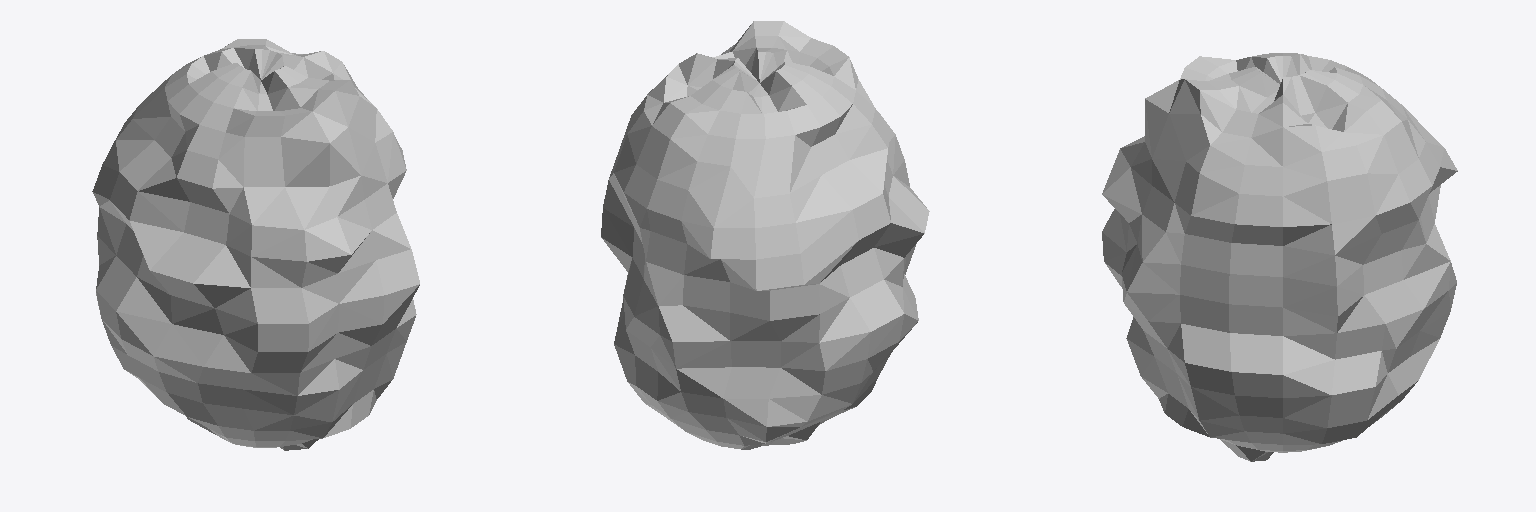
The model's file is meteor.obj.
3 renders of one model, left to right at view 1: azimuth 30°, elevation 25°; view 2: azimuth 150°, elevation 25°; view 3: azimuth 270°, elevation 25°, orthographic.
Visible parts, largest first — view 1: pSphere1; view 2: pSphere1; view 3: pSphere1.
Part boxes in pixels (bbox=[...]): pSphere1: bbox=[92, 39, 419, 450]; pSphere1: bbox=[601, 21, 929, 449]; pSphere1: bbox=[1102, 53, 1457, 461].
Bounding box in the file's own units: 1.74 × 2.31 × 1.94.